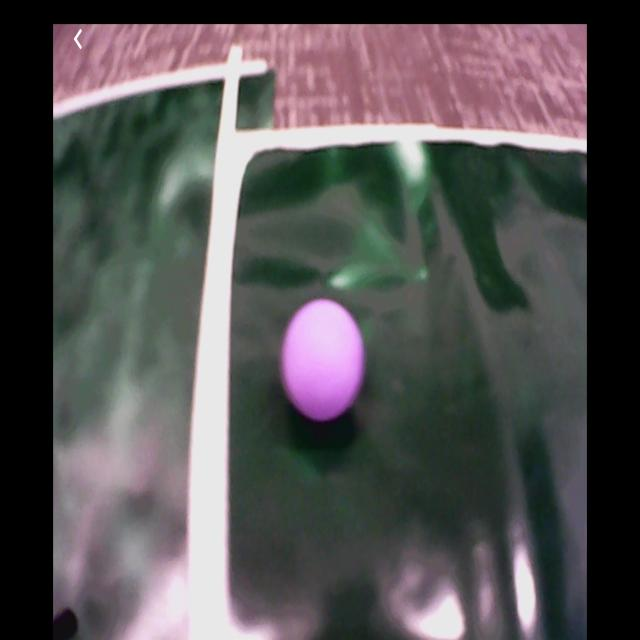ball: (281, 298, 365, 420)
